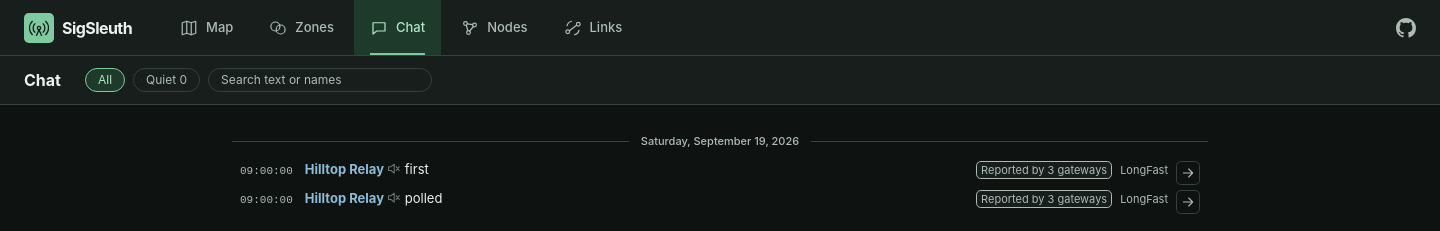
Scenario: Chat › forgets polled messages when the channel changes
The width and height of the screenshot is (1440, 231).
Expected: the text "first" is shown, [405,160,429,176]
Expected: the text "polled" is shown, [405,190,442,206]
Click the button "Quiet 0": click(166, 80) [133,68,200,92]
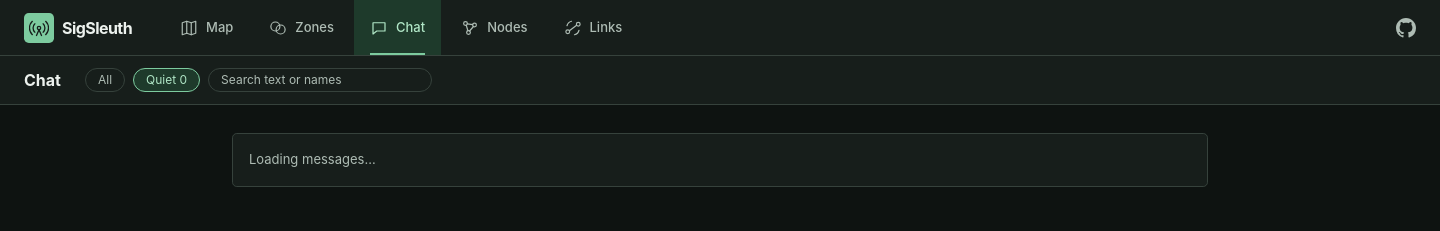
Result: the text "polled" is gone
Click the button "All": click(105, 80) [85,68,125,92]
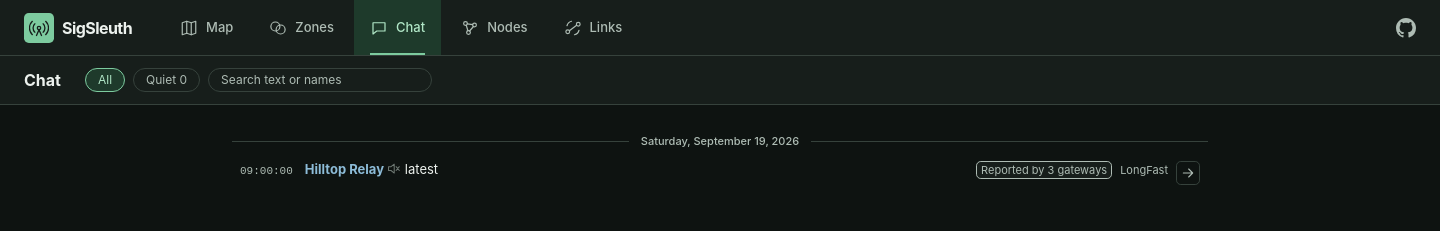
Expected: the text "polled" is not shown
Result: the text "latest" is shown at [405,160,438,176]
